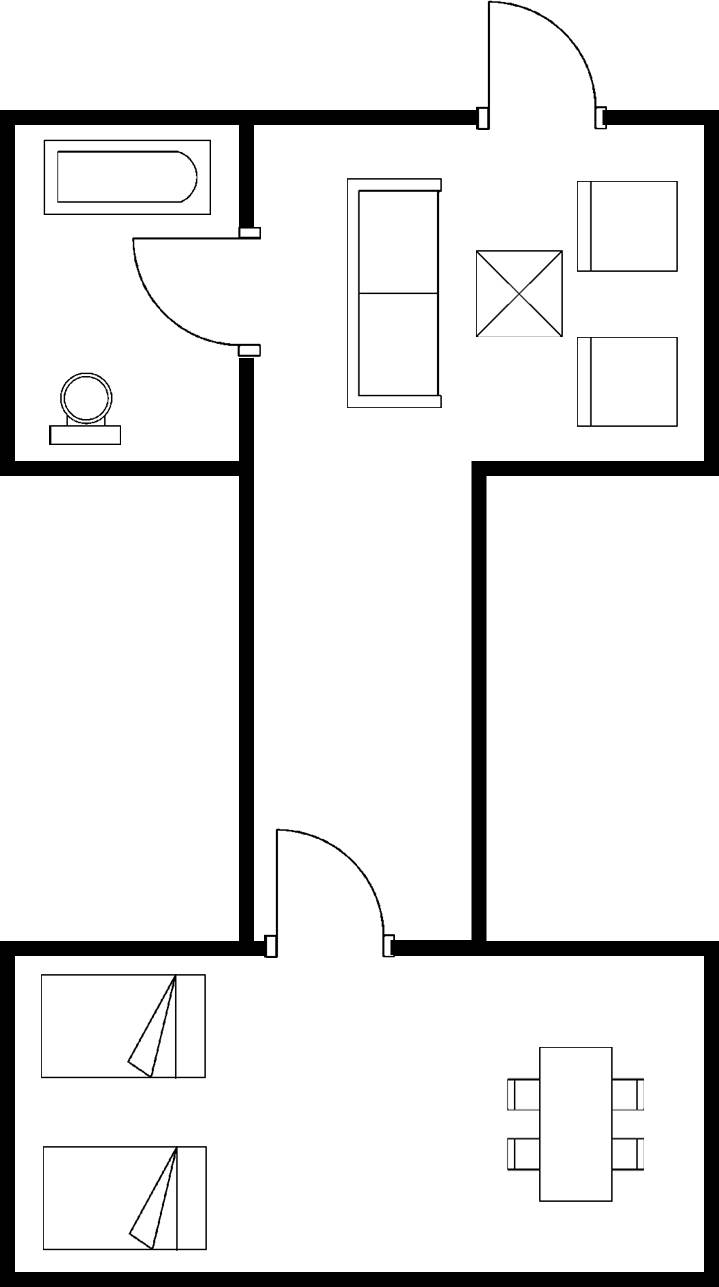bed: (36, 966, 217, 1088), (35, 1136, 216, 1258)
coffee_table: (466, 237, 570, 347)
dining_table: (500, 1038, 656, 1218)
large_sink: (40, 366, 130, 451)
large_sofa: (336, 172, 449, 417)
small_sofa: (569, 173, 685, 283), (569, 327, 685, 437)
tub: (37, 129, 219, 222)
